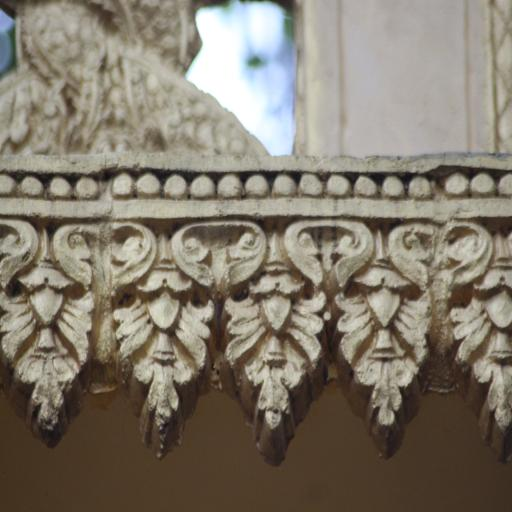la: (320, 224, 441, 462), (102, 226, 219, 456), (219, 228, 329, 470), (0, 221, 103, 444), (440, 223, 512, 461)
